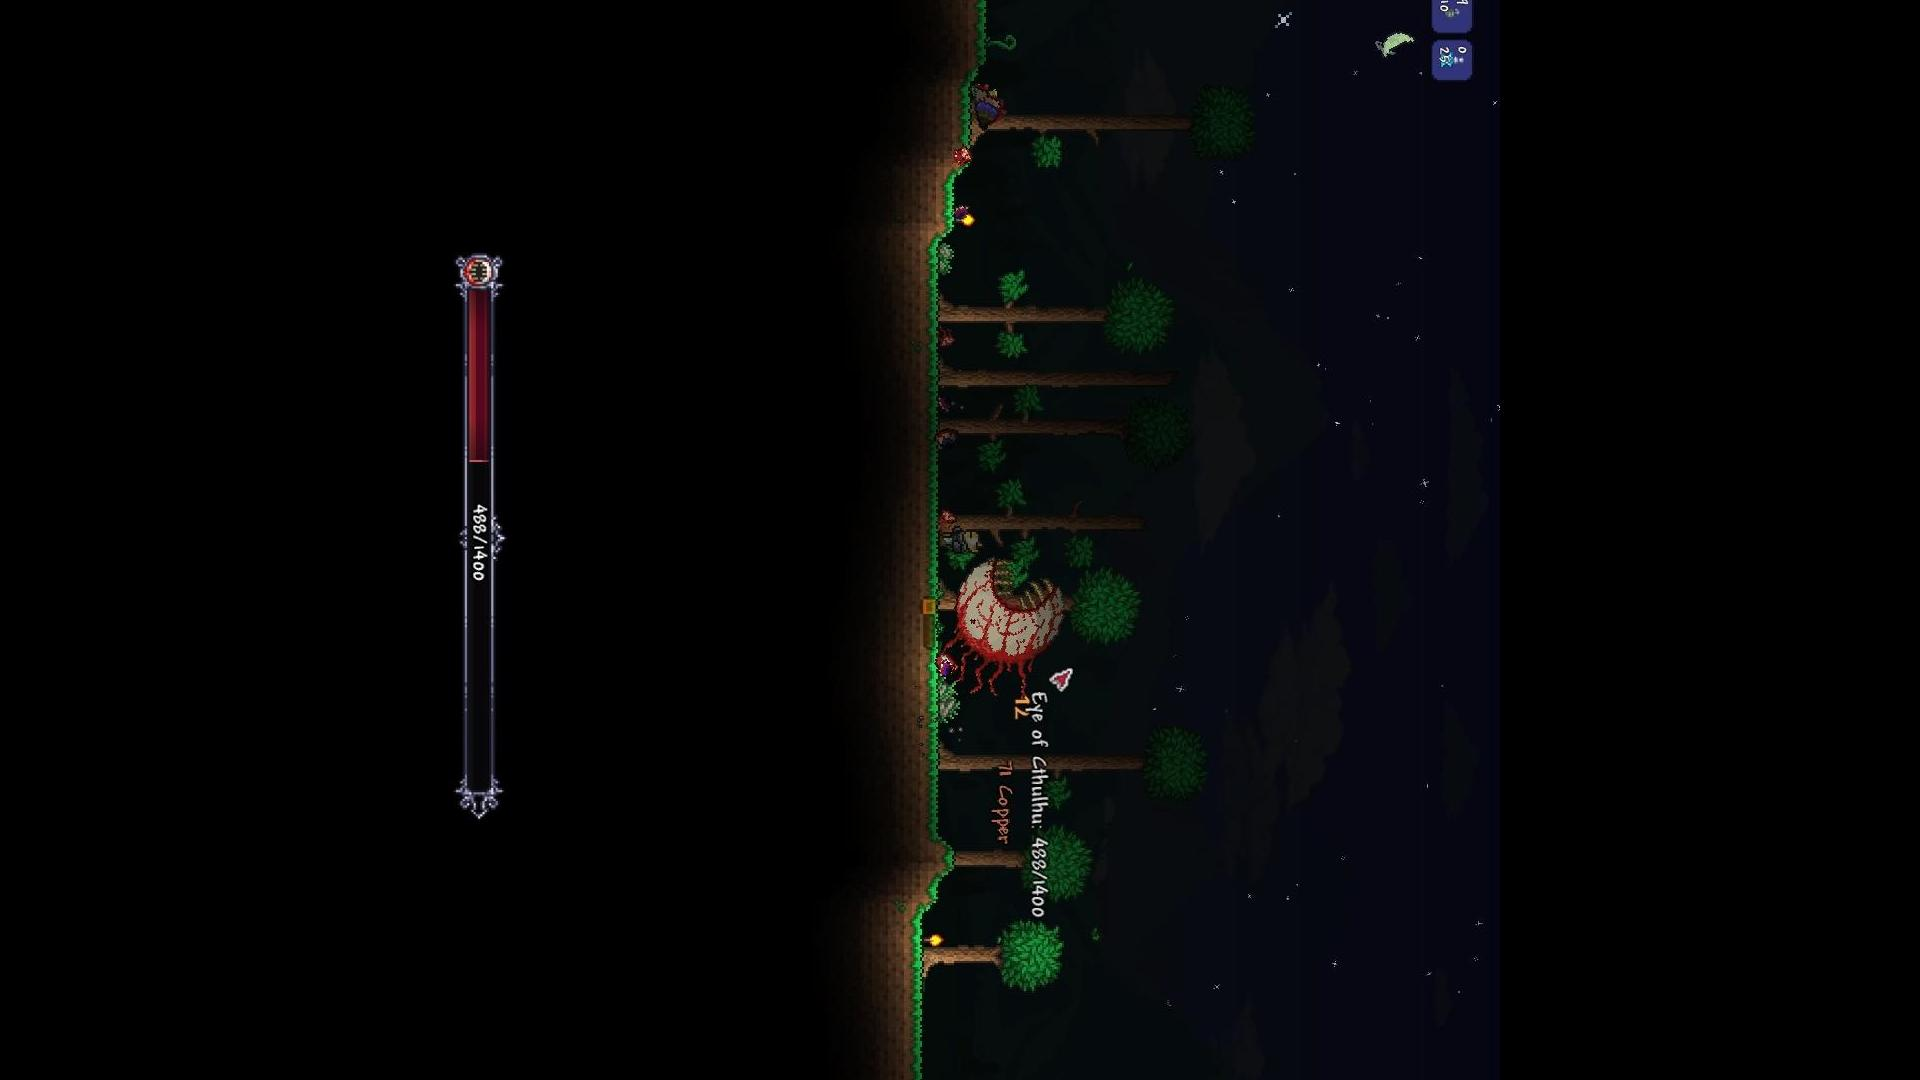dirt: (899, 208, 947, 1080), (930, 0, 1002, 211)
